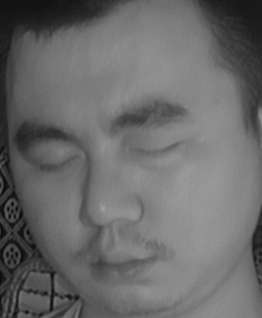blink: (131, 131, 179, 169), (37, 147, 81, 183)
mouth: (88, 239, 164, 285)
